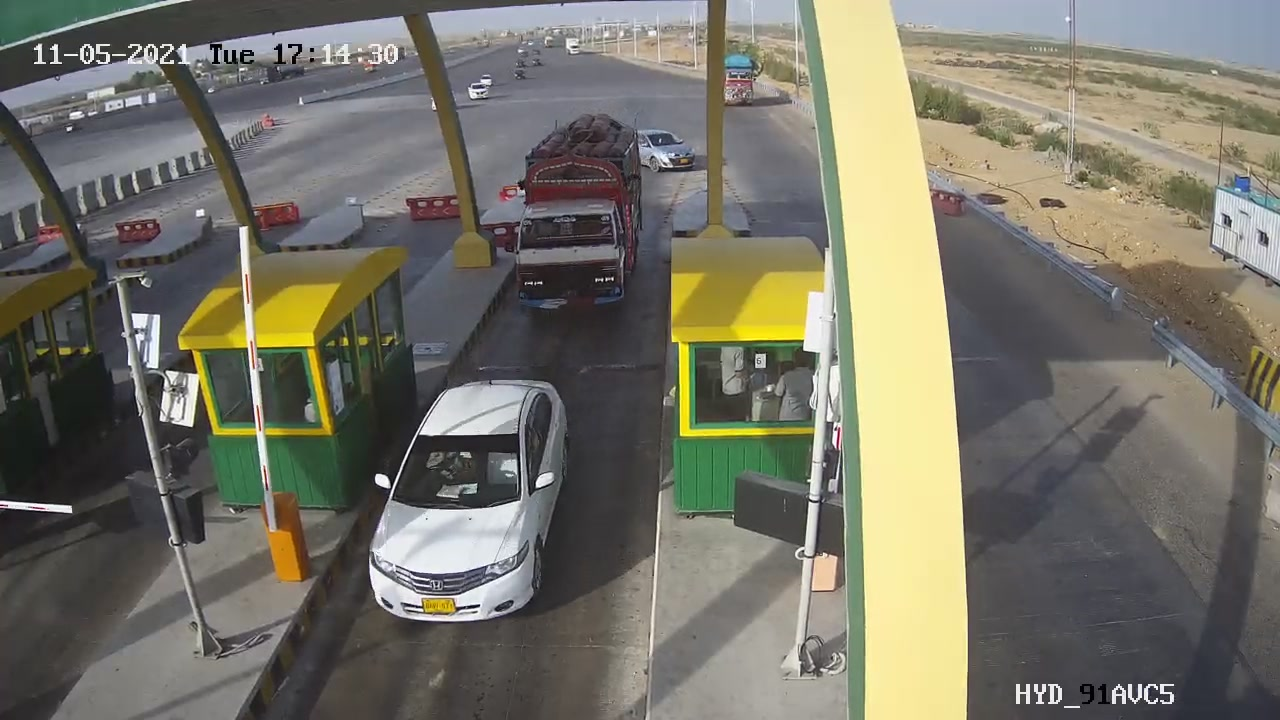F1: (340, 361, 590, 644)
F5: (504, 105, 648, 318)
